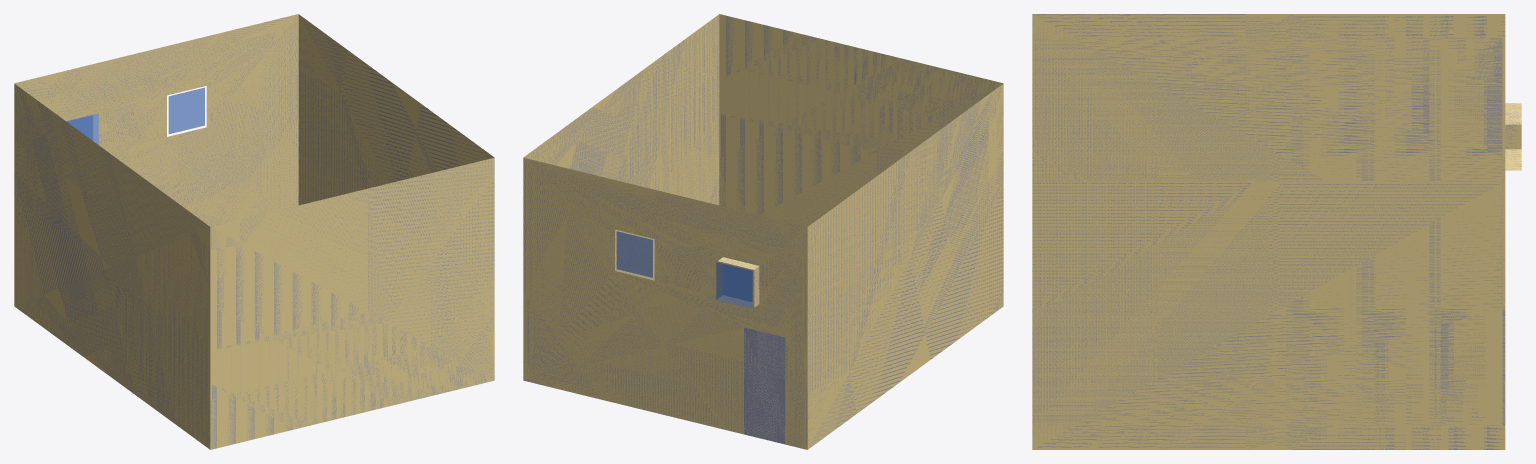
File: CUA005.obj
The picture shows the model from 3 angles, left to right: view 1: azimuth 30°, elevation 25°; view 2: azimuth 150°, elevation 25°; view 3: azimuth 270°, elevation 25°; orthographic projection. The views are drawn at different scales.
Parts seen in each view (by area): view 1: Mesh5 CUA005 Model, Mesh6 CUA005 Model, Mesh1 Group1 CUA005 Model; view 2: Mesh5 CUA005 Model, Mesh1 Group1 CUA005 Model, Mesh6 CUA005 Model; view 3: Mesh5 CUA005 Model, Mesh1 Group1 CUA005 Model.
Boxes of the visible parts, x1=… form: Mesh5 CUA005 Model: x1=14, y1=14, x2=494, y2=449; Mesh6 CUA005 Model: x1=168, y1=87, x2=204, y2=134; Mesh1 Group1 CUA005 Model: x1=65, y1=112, x2=100, y2=145; Mesh5 CUA005 Model: x1=523, y1=14, x2=1003, y2=449; Mesh1 Group1 CUA005 Model: x1=714, y1=255, x2=761, y2=311; Mesh6 CUA005 Model: x1=616, y1=231, x2=652, y2=277; Mesh5 CUA005 Model: x1=1032, y1=14, x2=1505, y2=449; Mesh1 Group1 CUA005 Model: x1=1505, y1=103, x2=1521, y2=170.
Bounding box in the file's own units: 5.49 × 4.11 × 6.78.
